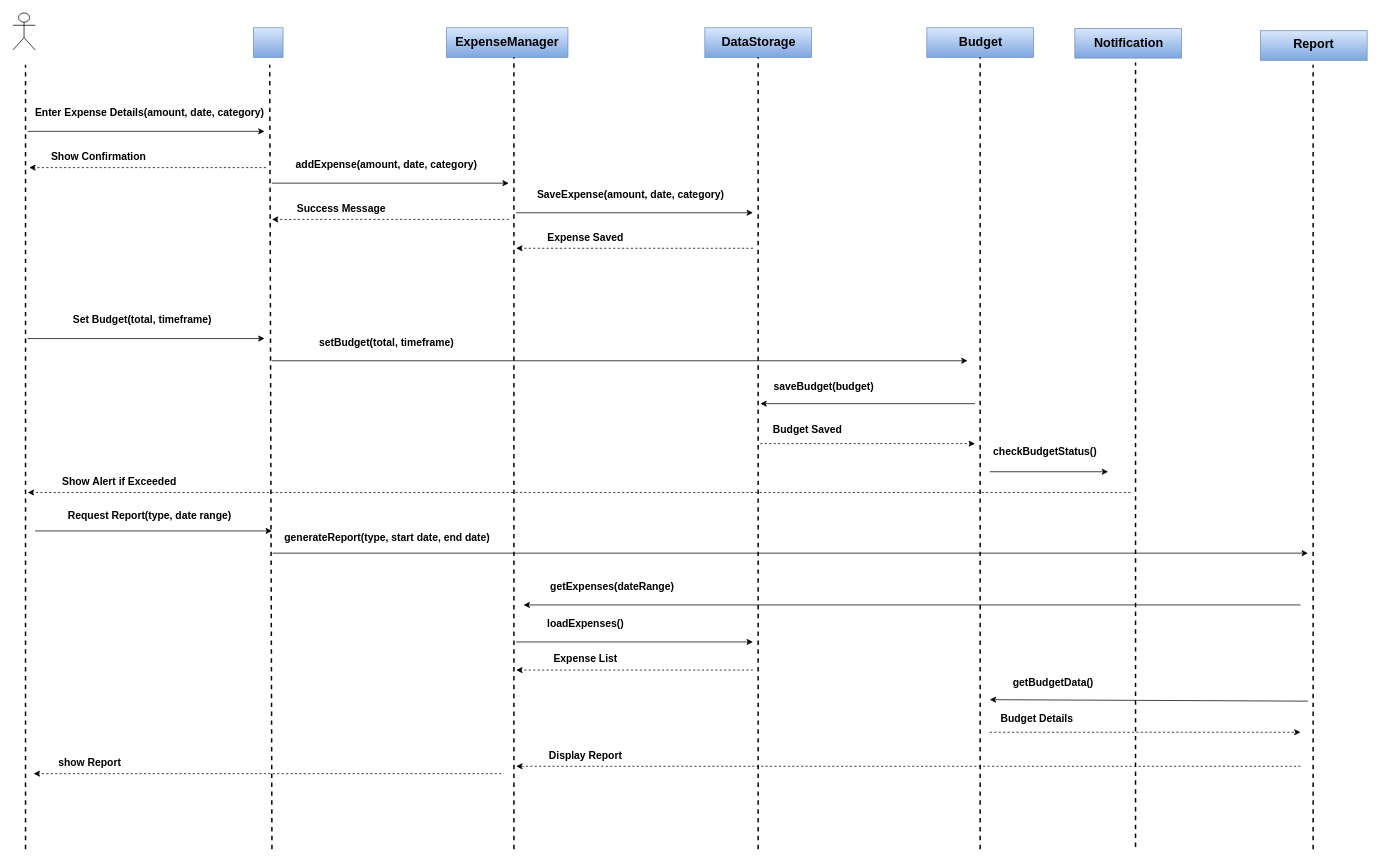
The diagram is 1380 pixels wide and 864 high, and some of its shapes have lost their labels. Each missing label, with the box of its shape:
UI: (253, 27, 283, 57)
User: (12, 12, 35, 50)
